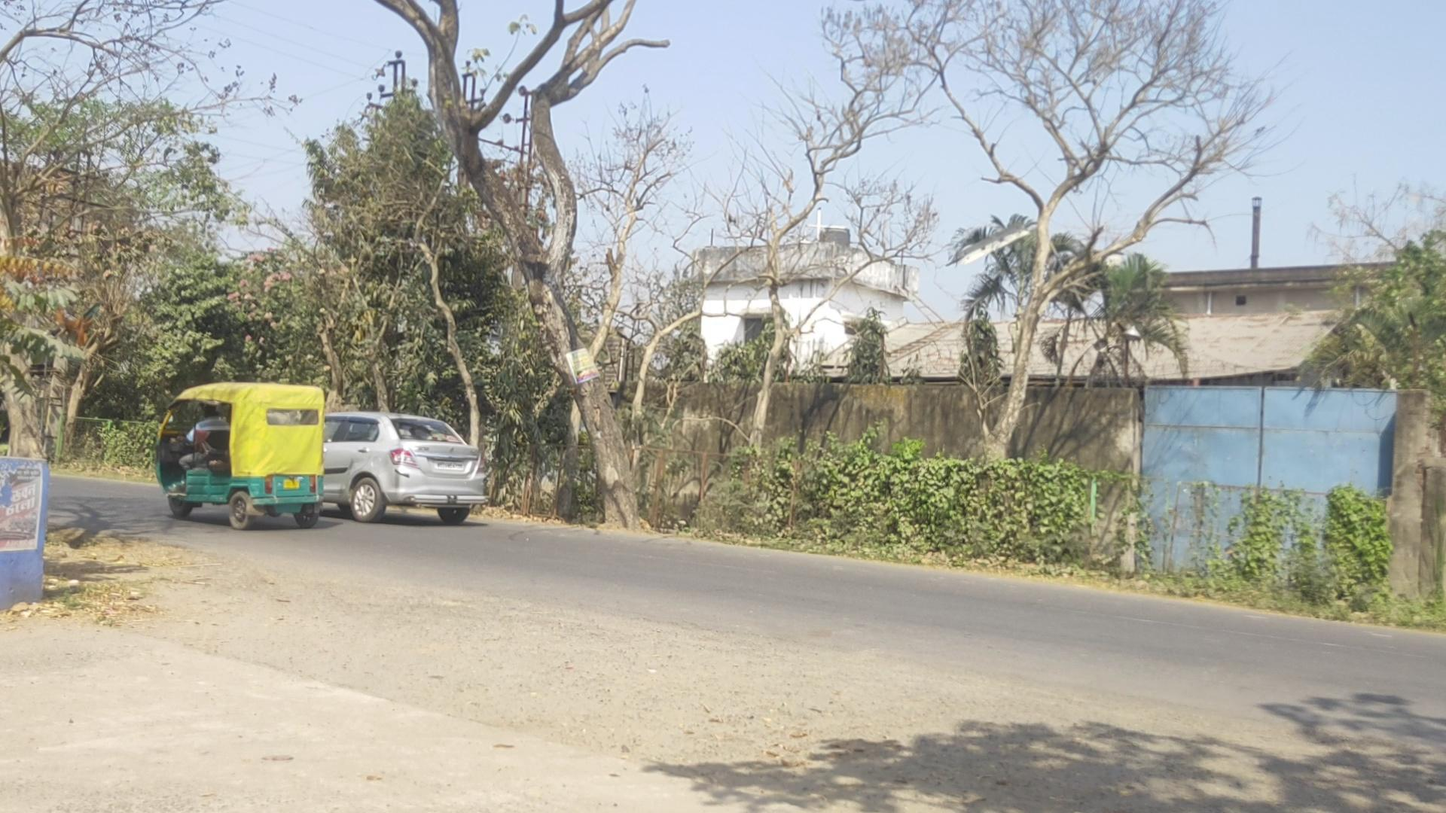Auto: (154, 381, 325, 531)
car: (316, 411, 487, 522)
